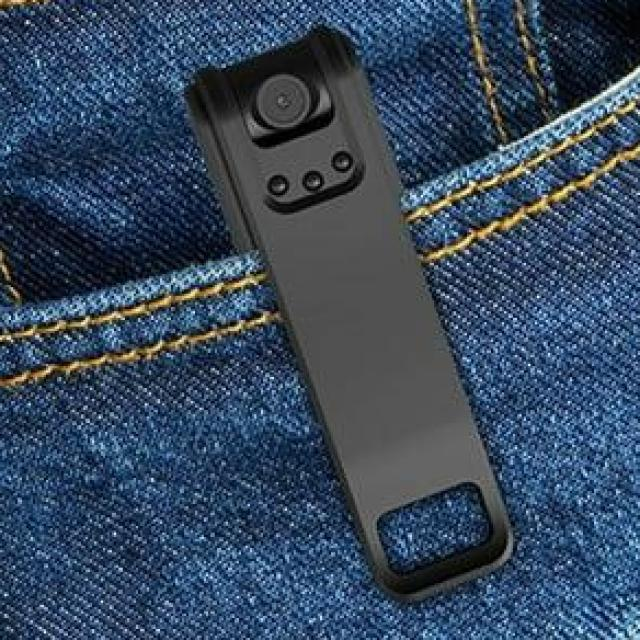hidden camera: (243, 62, 328, 144)
